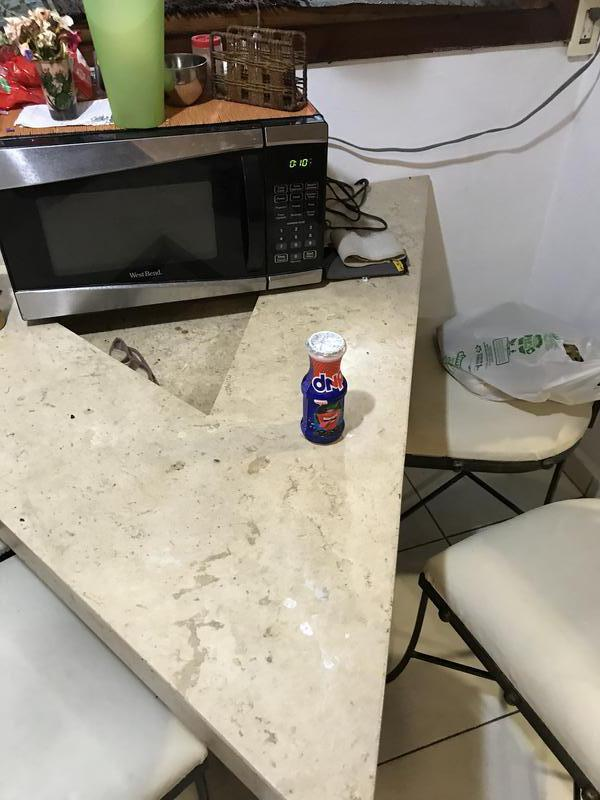danup: (301, 330, 347, 444)
